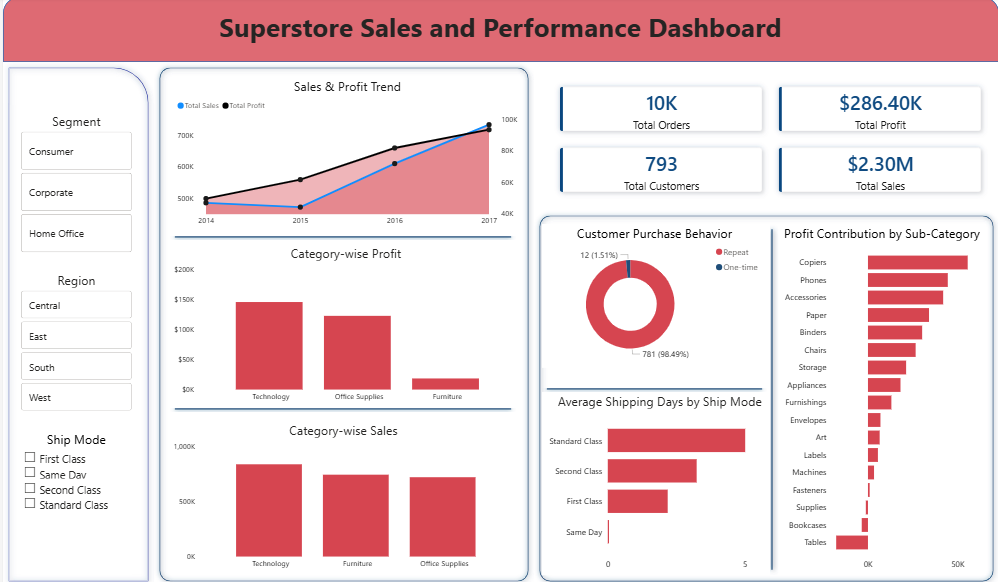

The dashboard page shown, as its layout file describes it:
{"tool":"powerbi","page":{"name":"Page 1","canvas":[1620,960],"ordinal":0},"visuals":[{"type":"shape","box":[0,105.7,245.6,853.9],"z":0},{"type":"shape","box":[0,0,1620,105.7],"z":1000},{"type":"shape","box":[863.7,346.4,756.3,613.2],"z":2000},{"type":"cardVisual","fields":{"Data":["Superstore_Sales_Cleaned.Total Orders","Superstore_Sales_Cleaned.Total Profit","Superstore_Sales_Cleaned.Number of Customers","Superstore_Sales_Cleaned.Total Sales"]},"box":[876.7,117.1,743.3,229.3],"z":3000},{"type":"barChart","title":"Profit Contribution by Sub-Category","fields":{"Category":["Superstore_Sales_Cleaned.sub_category"],"Y":["Superstore_Sales_Cleaned.Total Profit"]},"box":[1260.5,369.2,338.3,570.9],"z":4000},{"type":"donutChart","title":"Customer Purchase Behavior","fields":{"Category":["Customer_order_count.Customer_Type"],"Y":["Customer_order_count.Customer_count"]},"box":[876.7,369.2,366,234.2],"z":5000},{"type":"barChart","title":"Average Shipping Days by Ship Mode","fields":{"Y":["Superstore_Sales_Cleaned.Average_Shipping_Days"],"Category":["Superstore_Sales_Cleaned.ship_mode"]},"box":[876.7,642.5,383.9,297.7],"z":6000},{"type":"shape","box":[1241,369.2,19.5,570.9],"z":7000},{"type":"shape","box":[876.7,629.5,366,13],"z":8000},{"type":"shape","box":[245.6,105.7,618.1,853.9],"z":9000},{"type":"lineChart","title":"Sales & Profit Trend","fields":{"Category":["Superstore_Sales_Cleaned.order_year"],"Y":["Superstore_Sales_Cleaned.Total Sales"],"Y2":["Superstore_Sales_Cleaned.Total Profit"]},"box":[278.1,130.1,564.4,252.1],"z":10000},{"type":"columnChart","title":" Category-wise Profit","fields":{"Y":["Sum(Superstore_Sales_Cleaned.profit)"],"Category":["Superstore_Sales_Cleaned.category"]},"box":[273.3,401.7,569.3,266.7],"z":11000},{"type":"columnChart","title":" Category-wise Sales","fields":{"Category":["Superstore_Sales_Cleaned.category"],"Y":["Sum(Superstore_Sales_Cleaned.sales)"]},"box":[271.6,689.6,564.4,250.5],"z":12000},{"type":"shape","box":[271.6,382.2,562.8,13],"z":13000},{"type":"shape","box":[271.6,662,562.8,13],"z":14000},{"type":"advancedSlicerVisual","title":"Segment","fields":{"Values":["Superstore_Sales_Cleaned.segment"]},"box":[24.4,187,190.3,235.8],"z":15000},{"type":"advancedSlicerVisual","title":"Region","fields":{"Values":["Superstore_Sales_Cleaned.region"]},"box":[24.4,445.7,190.3,235.8],"z":16000},{"type":"listSlicer","title":"Ship Mode","fields":{"Values":["Superstore_Sales_Cleaned.ship_mode"]},"box":[29.3,704.3,180.5,235.8],"z":17000},{"type":"textbox","box":[333.4,14.6,951.5,76.4],"z":18000}]}

Visuals, with their boxes in screenshot pixels (x1, y1, x2, y2), scaled from the page's 1620x960 canvas onto the 998x582 screenshot:
shape: x1=0 y1=64 x2=151 y2=581
shape: x1=0 y1=0 x2=997 y2=64
shape: x1=532 y1=210 x2=997 y2=581
cardVisual - Superstore_Sales_Cleaned.Total Orders x Superstore_Sales_Cleaned.Total Profit: x1=540 y1=71 x2=997 y2=210
"Profit Contribution by Sub-Category" barChart: x1=777 y1=224 x2=985 y2=570
"Customer Purchase Behavior" donutChart: x1=540 y1=224 x2=766 y2=366
"Average Shipping Days by Ship Mode" barChart: x1=540 y1=390 x2=777 y2=570
shape: x1=765 y1=224 x2=777 y2=570
shape: x1=540 y1=382 x2=766 y2=390
shape: x1=151 y1=64 x2=532 y2=581
"Sales & Profit Trend" lineChart: x1=171 y1=79 x2=519 y2=232
" Category-wise Profit" columnChart: x1=168 y1=244 x2=519 y2=405
" Category-wise Sales" columnChart: x1=167 y1=418 x2=515 y2=570
shape: x1=167 y1=232 x2=514 y2=240
shape: x1=167 y1=401 x2=514 y2=409
"Segment" advancedSlicerVisual: x1=15 y1=113 x2=132 y2=256
"Region" advancedSlicerVisual: x1=15 y1=270 x2=132 y2=413
"Ship Mode" listSlicer: x1=18 y1=427 x2=129 y2=570
textbox: x1=205 y1=9 x2=792 y2=55
